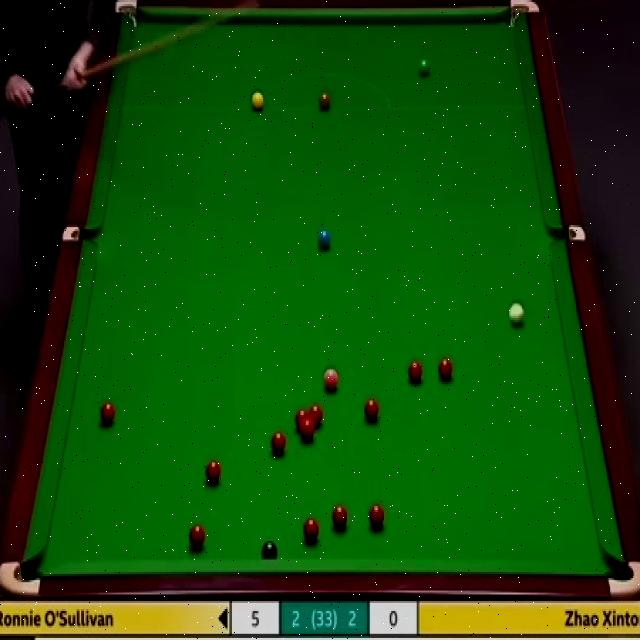black-ball: (261, 542, 277, 558)
blue-ball: (316, 228, 331, 250)
brown-ball: (317, 90, 332, 112)
green-ball: (417, 55, 432, 75)
pink-ball: (321, 367, 340, 390)
red-ball: (269, 429, 288, 457), (331, 504, 349, 532), (188, 522, 206, 548), (204, 459, 222, 484), (300, 418, 316, 446), (302, 516, 319, 542), (306, 403, 324, 427), (437, 356, 453, 382), (98, 403, 116, 425), (369, 505, 385, 527), (296, 408, 310, 433), (365, 397, 379, 421), (408, 361, 423, 382)
white-ball: (508, 300, 524, 328)
yellow-ball: (249, 91, 265, 112)
